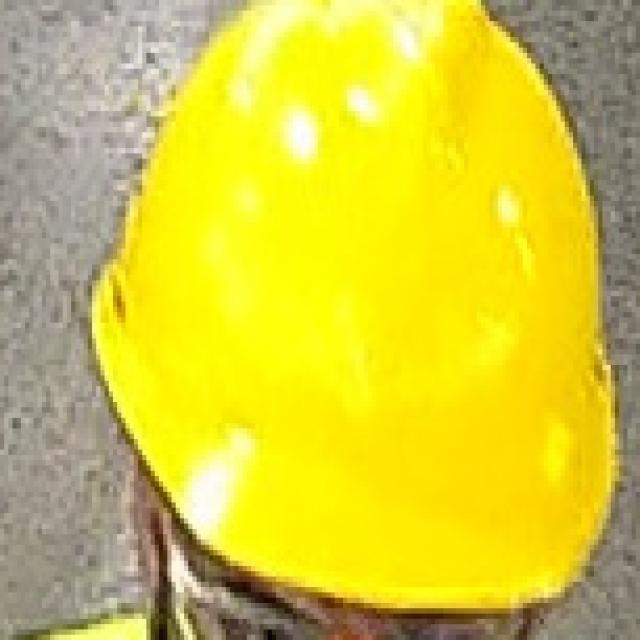yellow helmet: (87, 1, 627, 610)
